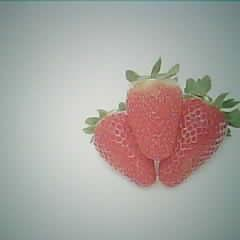straw-ripe: (158, 98, 230, 184), (127, 75, 184, 160), (93, 111, 156, 186)
